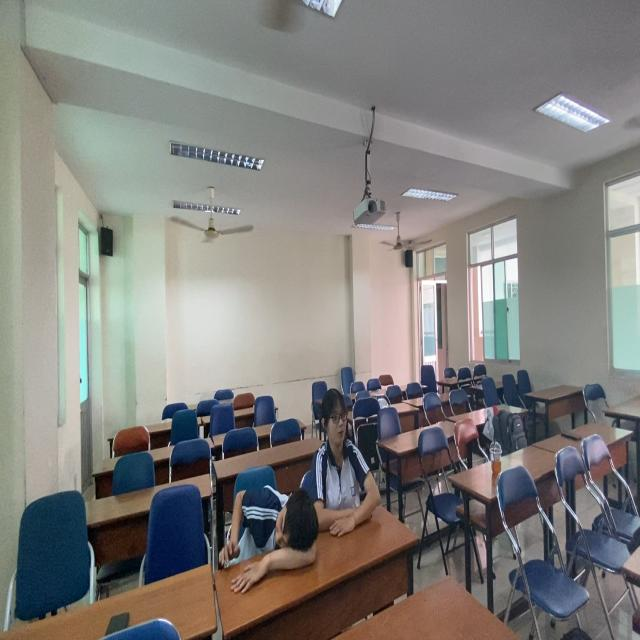sleep: (213, 473, 328, 594)
